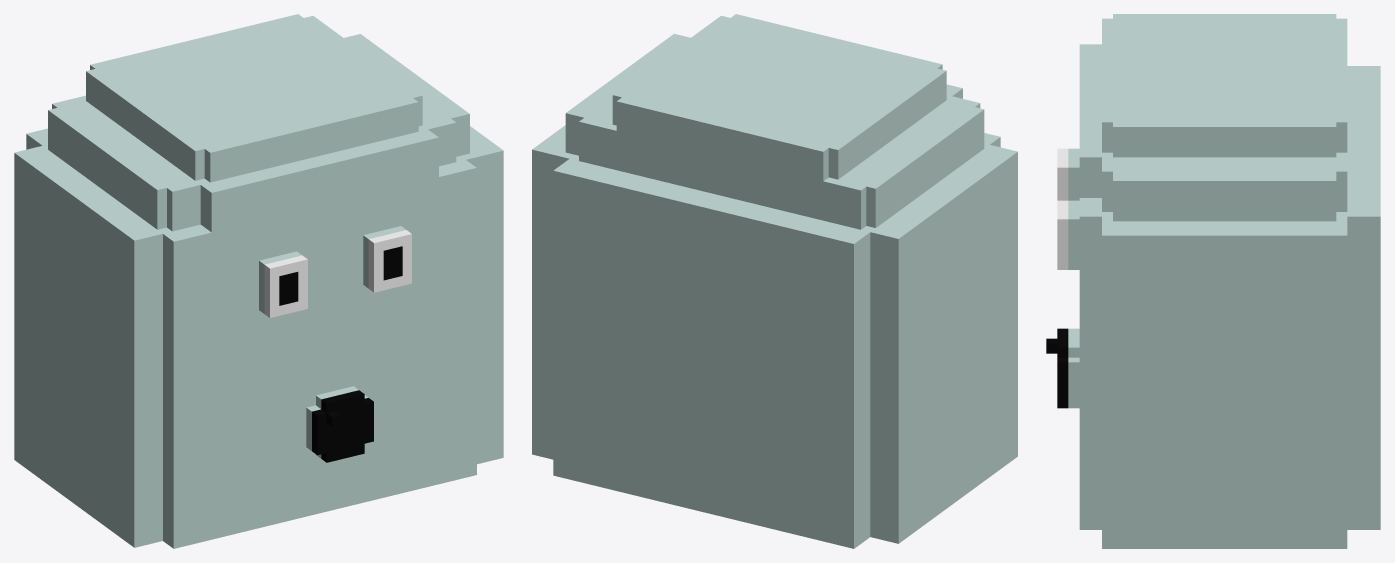
The model's file is fantasma pequeño.obj.
The picture shows the model from 3 angles, left to right: view 1: azimuth 30°, elevation 25°; view 2: azimuth 150°, elevation 25°; view 3: azimuth 270°, elevation 25°; orthographic projection. The views are drawn at different scales.
Size of the model in its own units: 3.9 by 3.8 by 3.
1 material, 1 textured.
